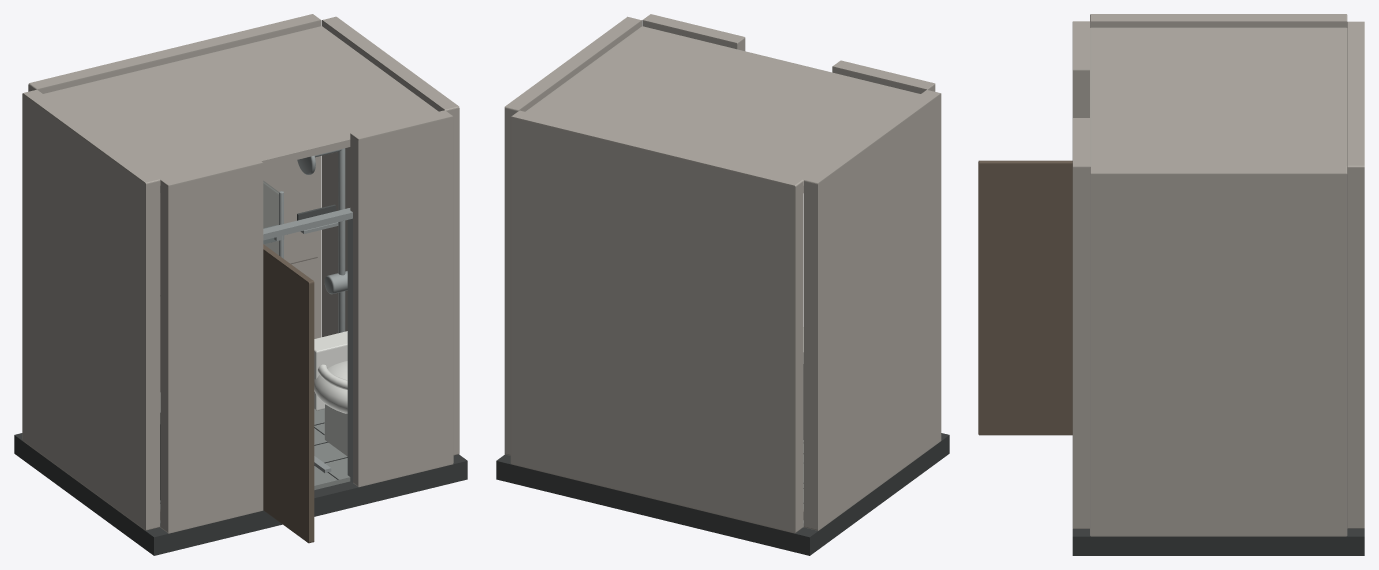
The model's file is bathroom-1602-premium.glb.
3 views of the same model, side by side, from view 1: azimuth 30°, elevation 25°; view 2: azimuth 150°, elevation 25°; view 3: azimuth 270°, elevation 25° (orthographic). The views are drawn at different scales.
Parts seen in each view (by area): view 1: MESH-WALL-1602-BATHROOM-WEST, MESH-WALL-1602-BATHROOM-SOUTH-WEST, MESH-WALL-1602-BATHROOM-SOUTH-EAST, MESH-VIS-CEILING-01, MESH-DOOR-1602-BATHROOM, MESH-WALL-1602-BATHROOM-NORTH, MESH-SLAB-1602-BATHROOM, MESH-WALL-1602-BATHROOM-EAST, MESH-VIS-FLOOR-TILES, VIS-DOOR-FRAME-R, MESH-SHOWER-RAIL, MESH-WC-CISTERN (+4 smaller); view 2: MESH-WALL-1602-BATHROOM-NORTH, MESH-WALL-1602-BATHROOM-WEST, MESH-VIS-CEILING-01, MESH-SLAB-1602-BATHROOM, MESH-WALL-1602-BATHROOM-EAST, MESH-WALL-1602-BATHROOM-SOUTH-EAST, MESH-WALL-1602-BATHROOM-SOUTH-WEST; view 3: MESH-WALL-1602-BATHROOM-EAST, MESH-VIS-CEILING-01, MESH-DOOR-1602-BATHROOM, MESH-WALL-1602-BATHROOM-NORTH, MESH-WALL-1602-BATHROOM-SOUTH-EAST, MESH-SLAB-1602-BATHROOM, MESH-WALL-1602-BATHROOM-WEST, MESH-WALL-1602-BATHROOM-SOUTH-WEST.
Part boxes in pixels (box(x1,y1,x2,y2)): MESH-WALL-1602-BATHROOM-WEST: box(22, 89, 159, 530); MESH-WALL-1602-BATHROOM-SOUTH-WEST: box(160, 156, 263, 533); MESH-WALL-1602-BATHROOM-SOUTH-EAST: box(350, 110, 453, 487); MESH-VIS-CEILING-01: box(43, 26, 438, 192); MESH-DOOR-1602-BATHROOM: box(263, 244, 314, 543); MESH-WALL-1602-BATHROOM-NORTH: box(28, 14, 321, 391); MESH-SLAB-1602-BATHROOM: box(14, 433, 467, 555); MESH-WALL-1602-BATHROOM-EAST: box(322, 16, 459, 455); MESH-VIS-FLOOR-TILES: box(160, 409, 350, 527); VIS-DOOR-FRAME-R: box(347, 208, 352, 482); MESH-SHOWER-RAIL: box(338, 148, 345, 333); MESH-WC-CISTERN: box(314, 331, 347, 410); MESH-WALL-1602-BATHROOM-NORTH: box(510, 110, 803, 533); MESH-WALL-1602-BATHROOM-WEST: box(804, 90, 941, 530); MESH-VIS-CEILING-01: box(525, 26, 920, 192); MESH-SLAB-1602-BATHROOM: box(496, 433, 949, 555); MESH-WALL-1602-BATHROOM-EAST: box(504, 16, 641, 455); MESH-WALL-1602-BATHROOM-SOUTH-EAST: box(642, 14, 745, 50); MESH-WALL-1602-BATHROOM-SOUTH-WEST: box(832, 60, 935, 93); MESH-WALL-1602-BATHROOM-EAST: box(1090, 166, 1347, 536); MESH-VIS-CEILING-01: box(1090, 27, 1347, 166); MESH-DOOR-1602-BATHROOM: box(978, 160, 1072, 435); MESH-WALL-1602-BATHROOM-NORTH: box(1347, 21, 1364, 528); MESH-WALL-1602-BATHROOM-SOUTH-EAST: box(1072, 118, 1089, 528); MESH-SLAB-1602-BATHROOM: box(1072, 528, 1364, 555); MESH-WALL-1602-BATHROOM-WEST: box(1090, 14, 1347, 27); MESH-WALL-1602-BATHROOM-SOUTH-WEST: box(1072, 21, 1089, 117).
Size of what is drawn, in the model's own units: 2.64 by 2.95 by 2.7.
